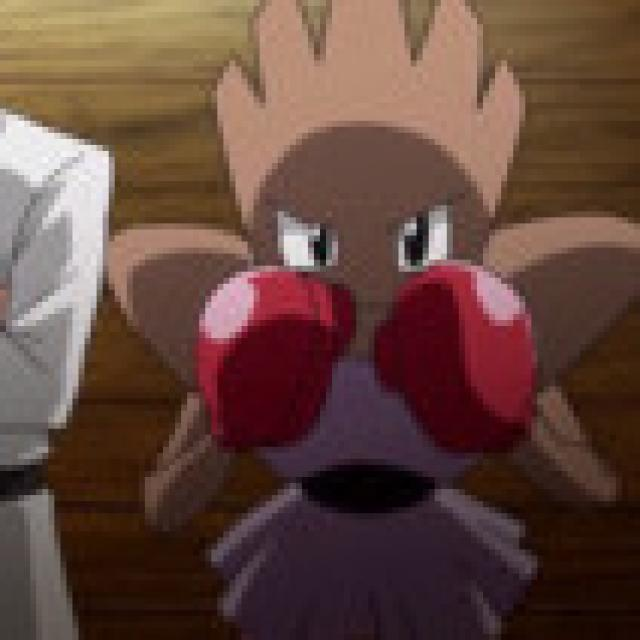Hitmonchan: (138, 55, 606, 572)
